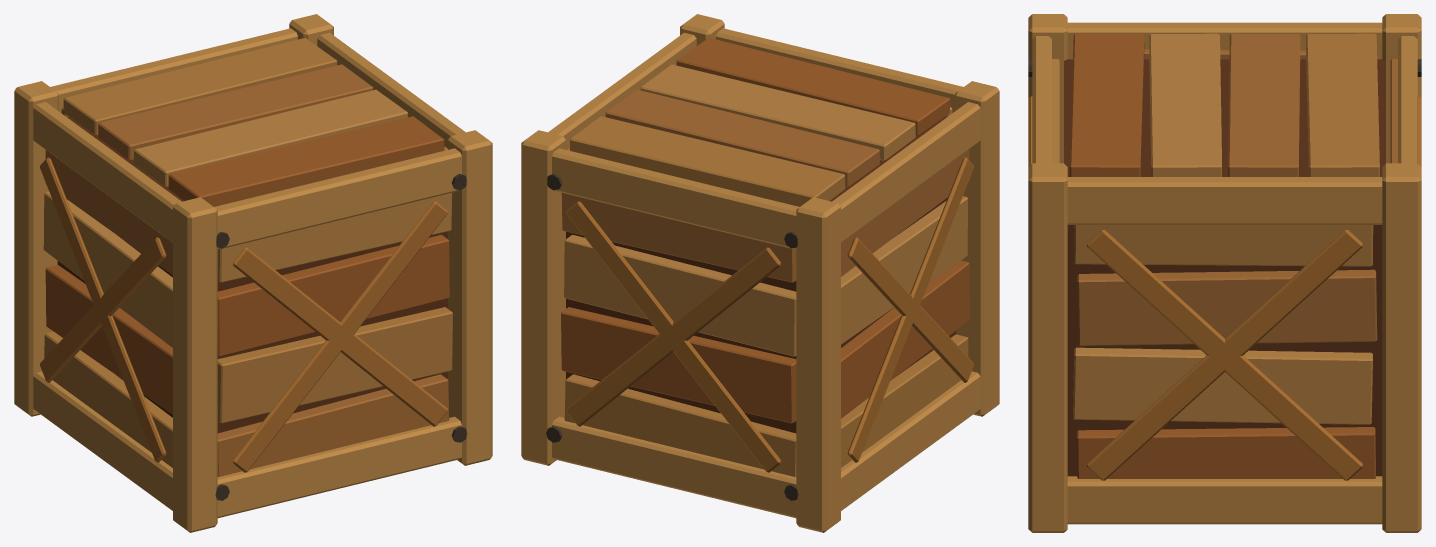
The model's file is SM_crate_standard.glb.
3 renders of one model, left to right at view 1: azimuth 30°, elevation 25°; view 2: azimuth 150°, elevation 25°; view 3: azimuth 270°, elevation 25°, orthographic. The views are drawn at different scales.
Parts seen in each view (by area): view 1: SM_crate_standard; view 2: SM_crate_standard; view 3: SM_crate_standard.
Boxes of the visible parts, x1=… form: SM_crate_standard: x1=14, y1=14, x2=492, y2=532; SM_crate_standard: x1=521, y1=14, x2=999, y2=532; SM_crate_standard: x1=1028, y1=14, x2=1421, y2=532.
Bounding box in the file's own units: 1 × 1 × 1.
